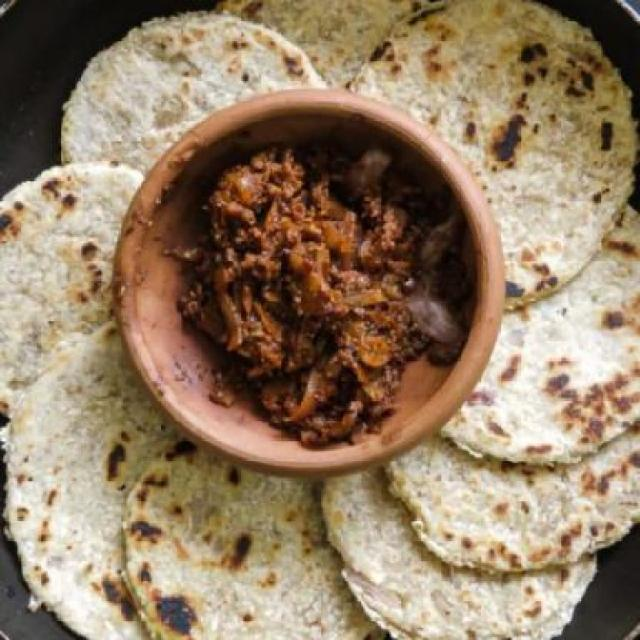chapati: (350, 0, 636, 312), (5, 317, 183, 638), (437, 202, 638, 467), (121, 437, 382, 638), (323, 455, 597, 639), (59, 11, 330, 184), (384, 422, 639, 572), (0, 160, 145, 420), (216, 0, 442, 91)
